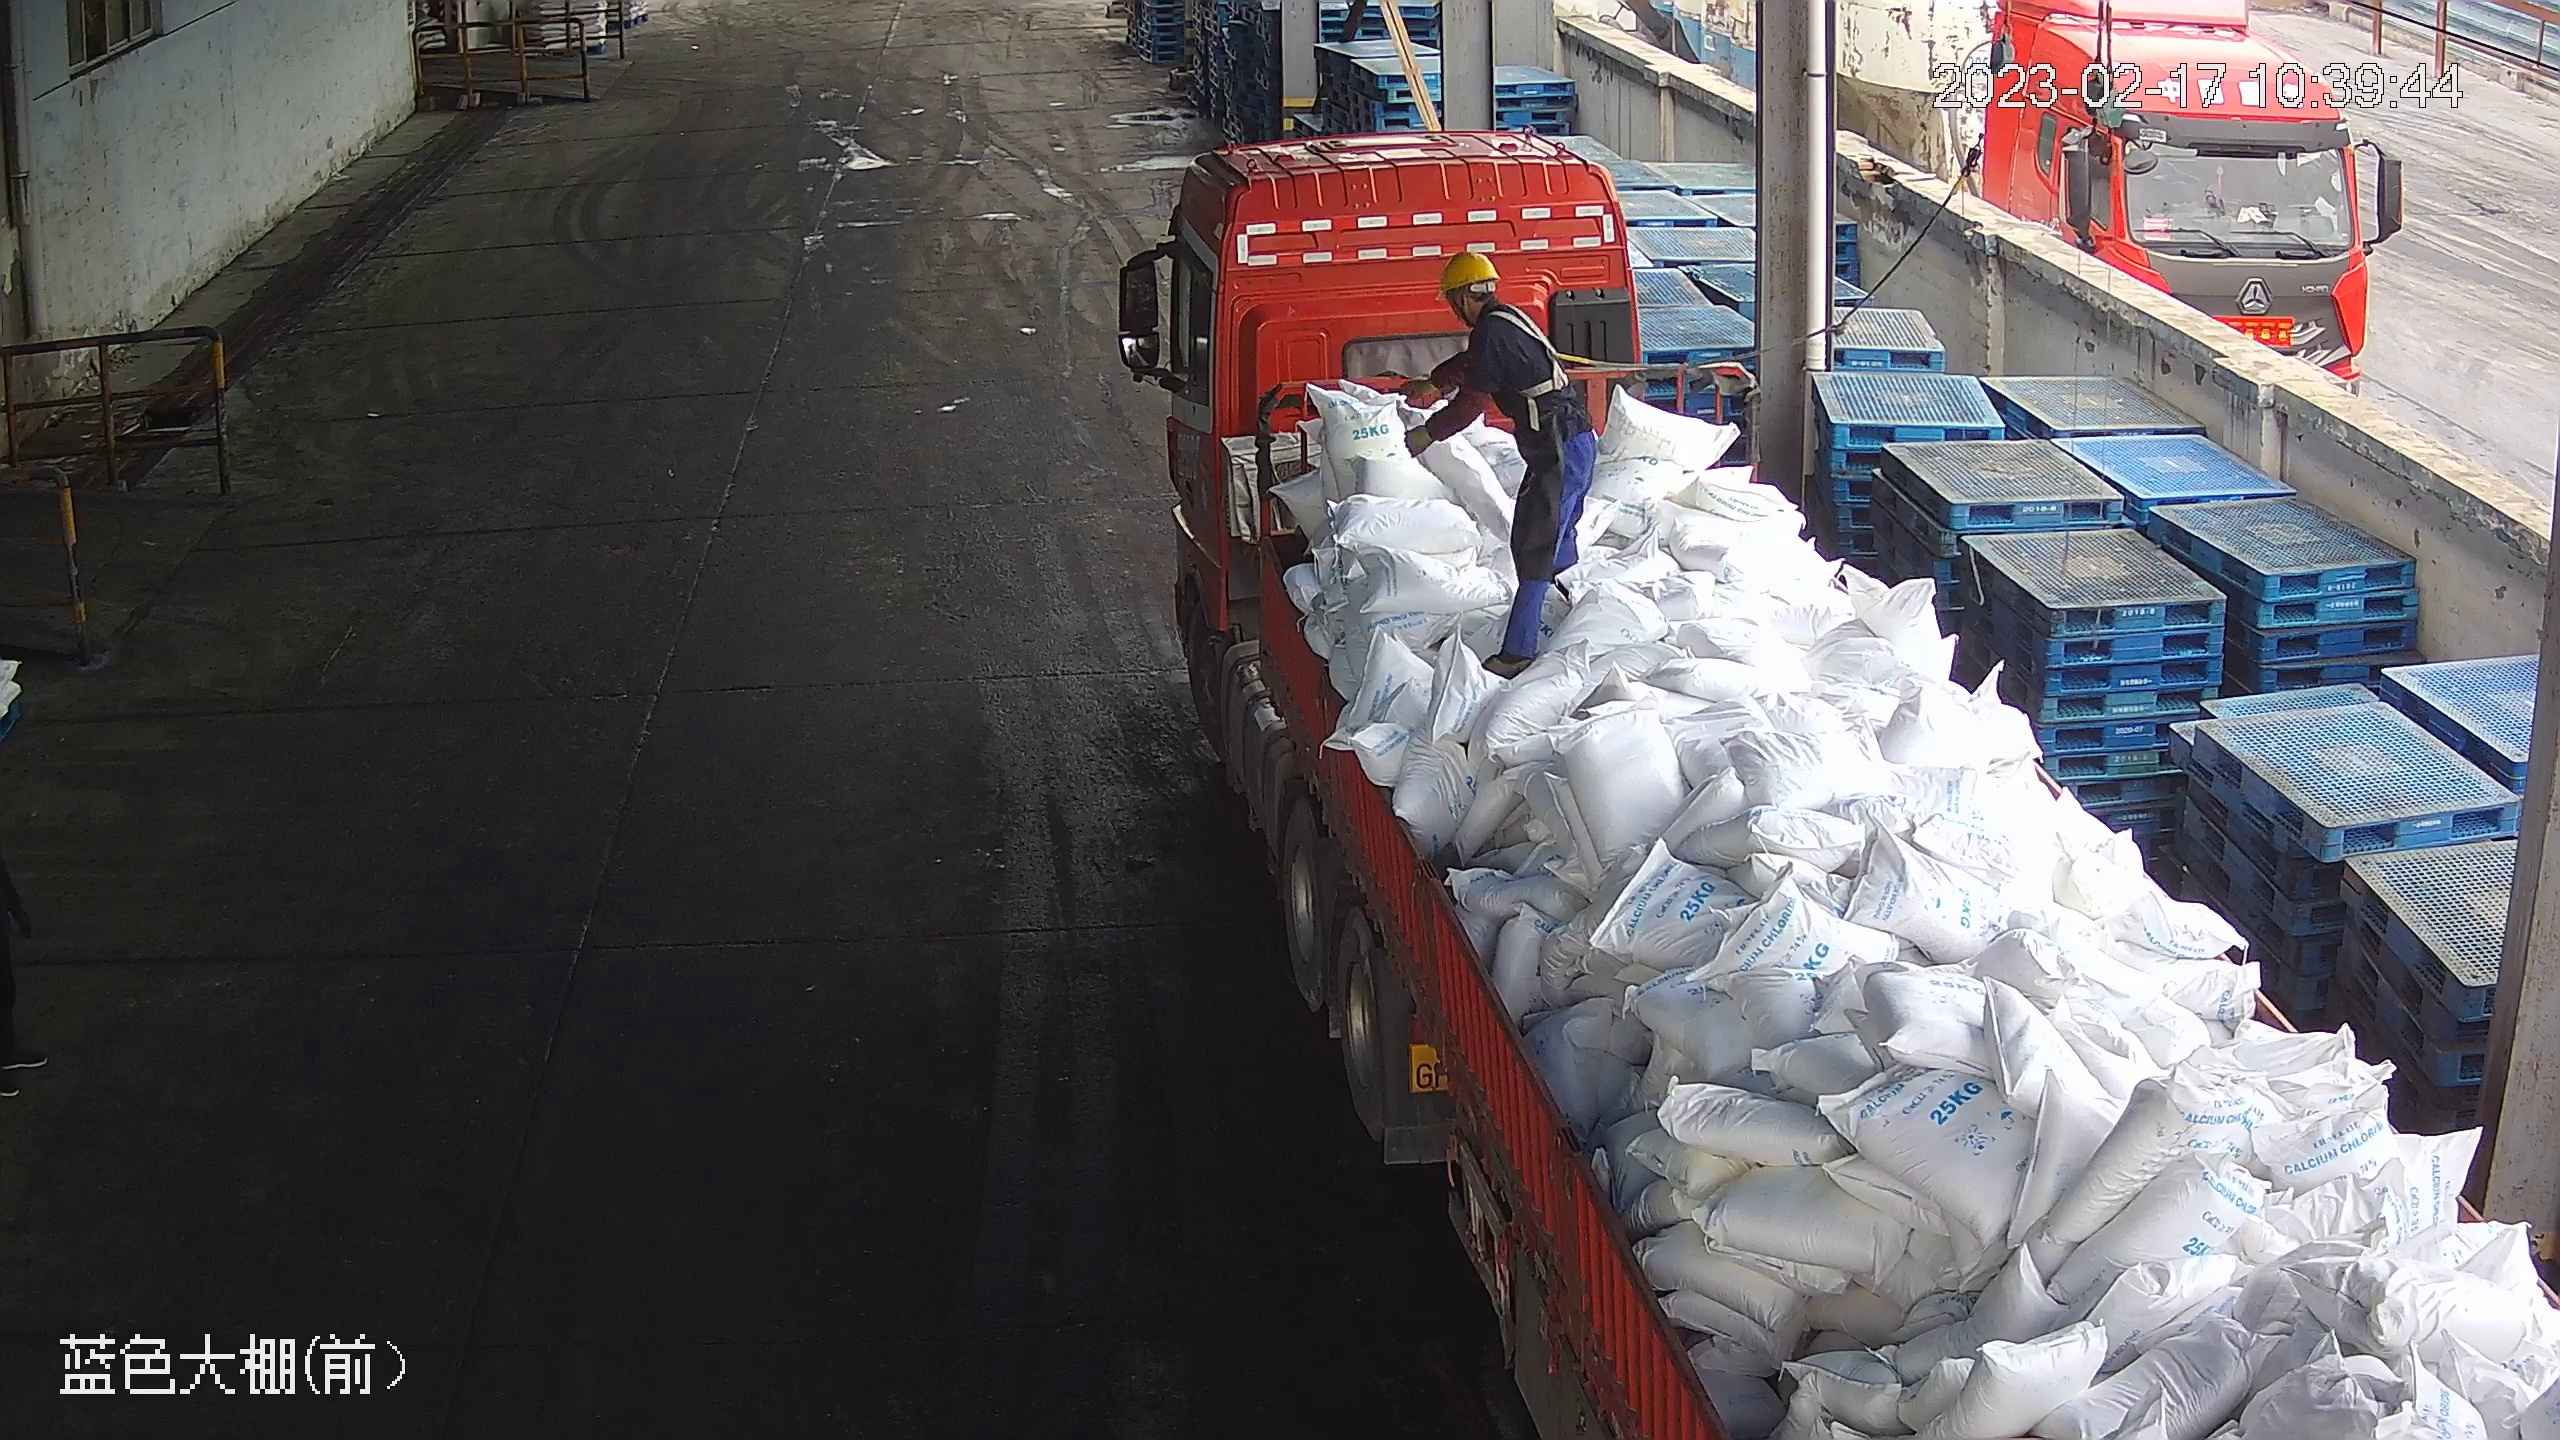belt: (1488, 298, 1579, 404)
head: (1432, 249, 1540, 357)
helmet: (1434, 248, 1500, 295)
people: (1401, 249, 1597, 672)
truck: (1086, 138, 2557, 1437)
